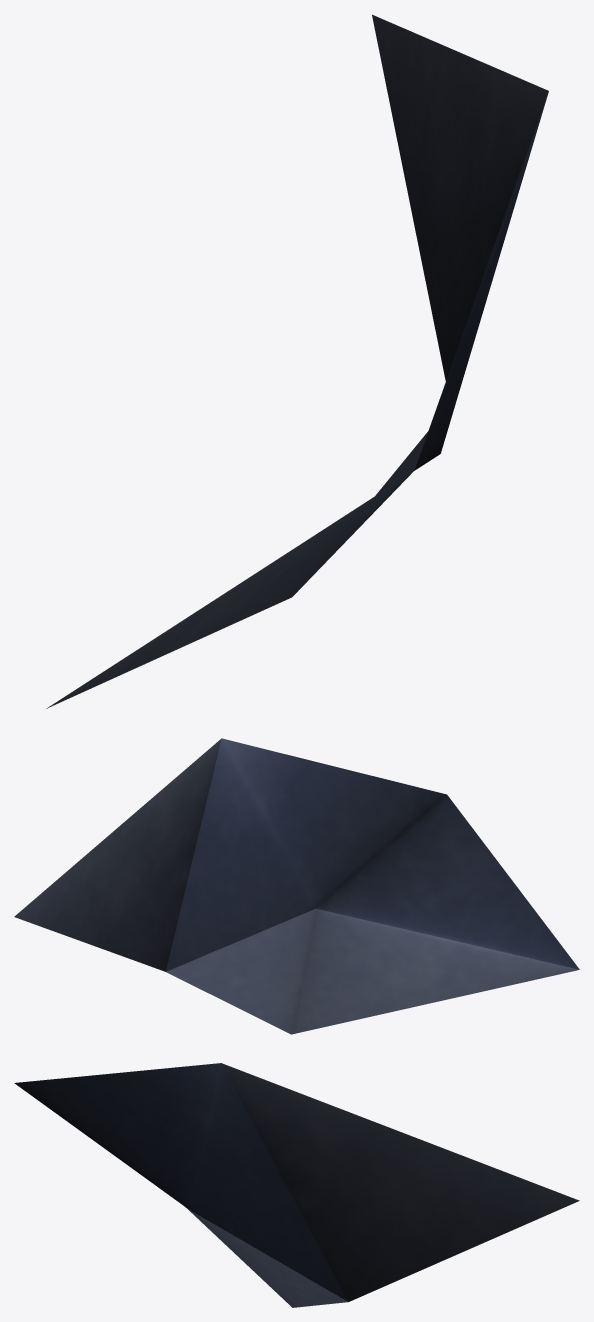
The model's file is SM_Floor_Vert_A_A.fbx.
3 renders of one model, top to bottom at view 1: azimuth 30°, elevation 25°; view 2: azimuth 150°, elevation 25°; view 3: azimuth 270°, elevation 25°, orthographic. The views are drawn at different scales.
Visible parts, largest first — view 1: pCube195; view 2: pCube195; view 3: pCube195.
Boxes of the visible parts, <box> form: pCube195: <box>46,14,548,708</box>; pCube195: <box>14,738,579,1034</box>; pCube195: <box>14,1063,579,1307</box>.
Bounding box in the file's own units: 0.5338 × 0.3505 × 0.5926.
